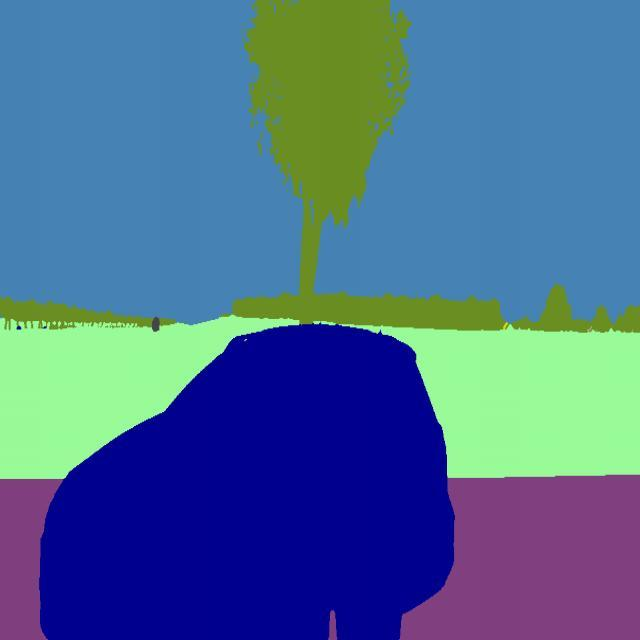unsafe: (28, 318, 460, 640)
